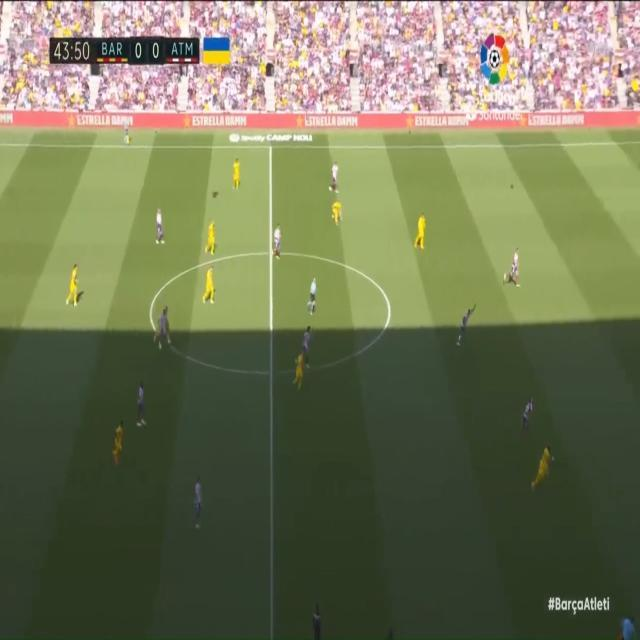ball: (507, 178, 517, 196)
player: (454, 300, 478, 354), (532, 440, 553, 492), (503, 247, 524, 292), (190, 470, 205, 530), (200, 263, 219, 308), (109, 420, 127, 464), (132, 379, 148, 428), (67, 262, 82, 314), (292, 346, 308, 391), (153, 209, 169, 254), (300, 321, 317, 363), (522, 392, 538, 433), (271, 217, 285, 263), (413, 213, 428, 255), (204, 219, 218, 260), (329, 160, 342, 202), (158, 312, 171, 351), (231, 157, 244, 195), (329, 195, 343, 226), (164, 306, 172, 345)
referee: (306, 274, 320, 322), (616, 611, 636, 640), (120, 114, 135, 147)
